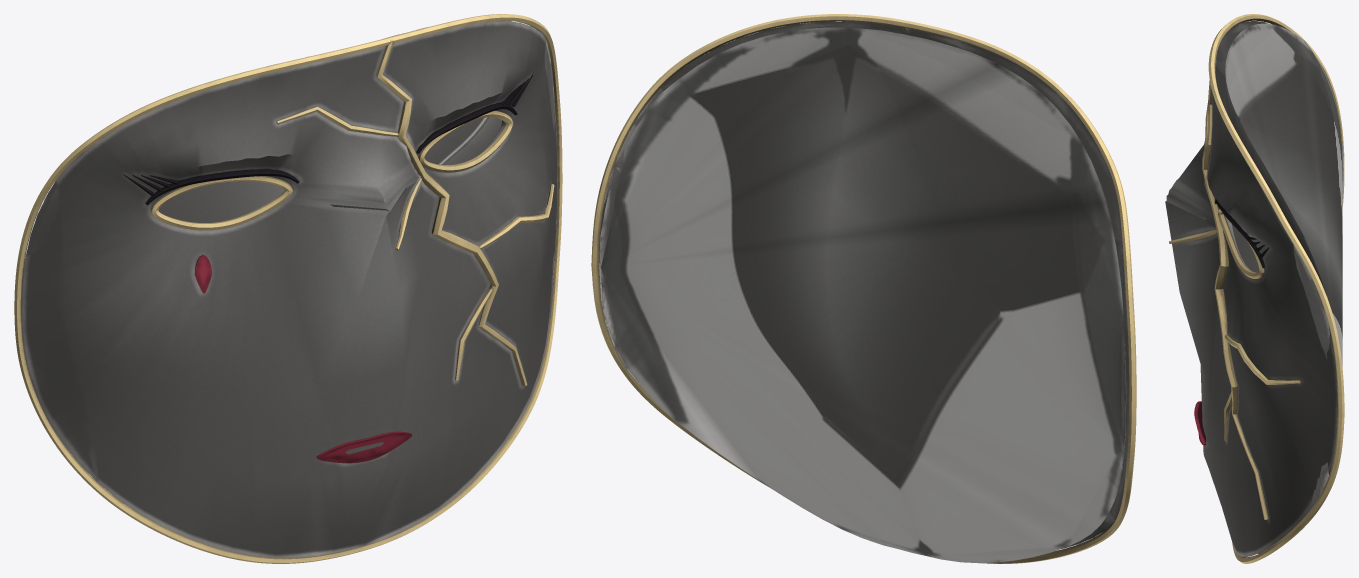
The model's file is NHAcc_KintsugiMask.fbx.
3 renders of one model, left to right at view 1: azimuth 30°, elevation 25°; view 2: azimuth 150°, elevation 25°; view 3: azimuth 270°, elevation 25°, orthographic. The views are drawn at different scales.
Parts seen in each view (by area): view 1: KintsugiMask; view 2: KintsugiMask; view 3: KintsugiMask.
Boxes of the visible parts, x1,y1,x2,y2 form: KintsugiMask: [14, 14, 562, 563]; KintsugiMask: [591, 14, 1136, 563]; KintsugiMask: [1165, 14, 1344, 563].
Bounding box in the file's own units: 0.9159 × 0.8299 × 0.2888.
1 material, 1 textured.
